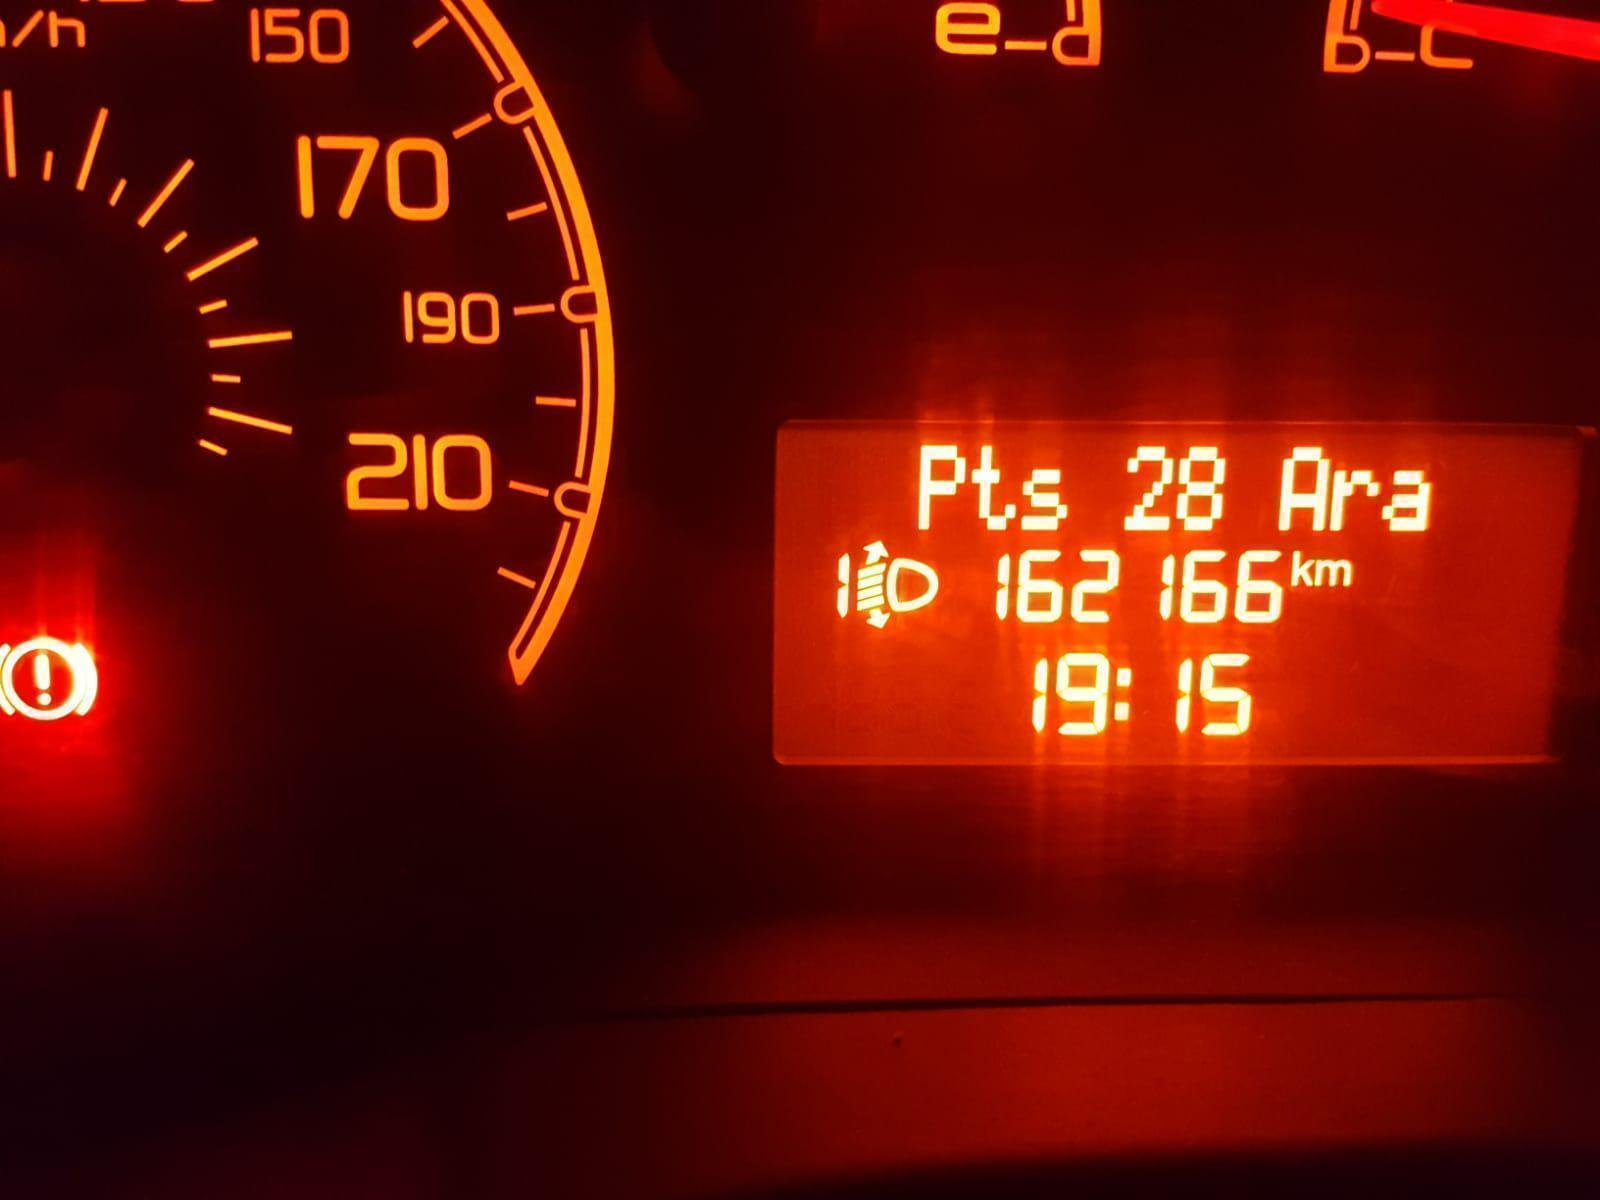1: (1172, 650, 1196, 741), (1026, 650, 1051, 736), (831, 543, 854, 616), (1158, 545, 1175, 625), (993, 548, 1010, 626)
2: (1126, 434, 1175, 534), (1073, 542, 1117, 626)
5: (1199, 645, 1254, 742)
6: (1180, 542, 1231, 624), (1014, 545, 1065, 624), (1236, 543, 1283, 624)
8: (1174, 441, 1225, 533)
9: (1054, 649, 1110, 742)
X: (1274, 442, 1330, 533), (913, 437, 961, 532), (970, 439, 1014, 534), (1020, 461, 1070, 533), (1330, 463, 1380, 533), (1386, 464, 1429, 534), (1110, 655, 1136, 724), (1313, 556, 1354, 587), (1290, 545, 1315, 590)
odometer: (775, 418, 1581, 769)
